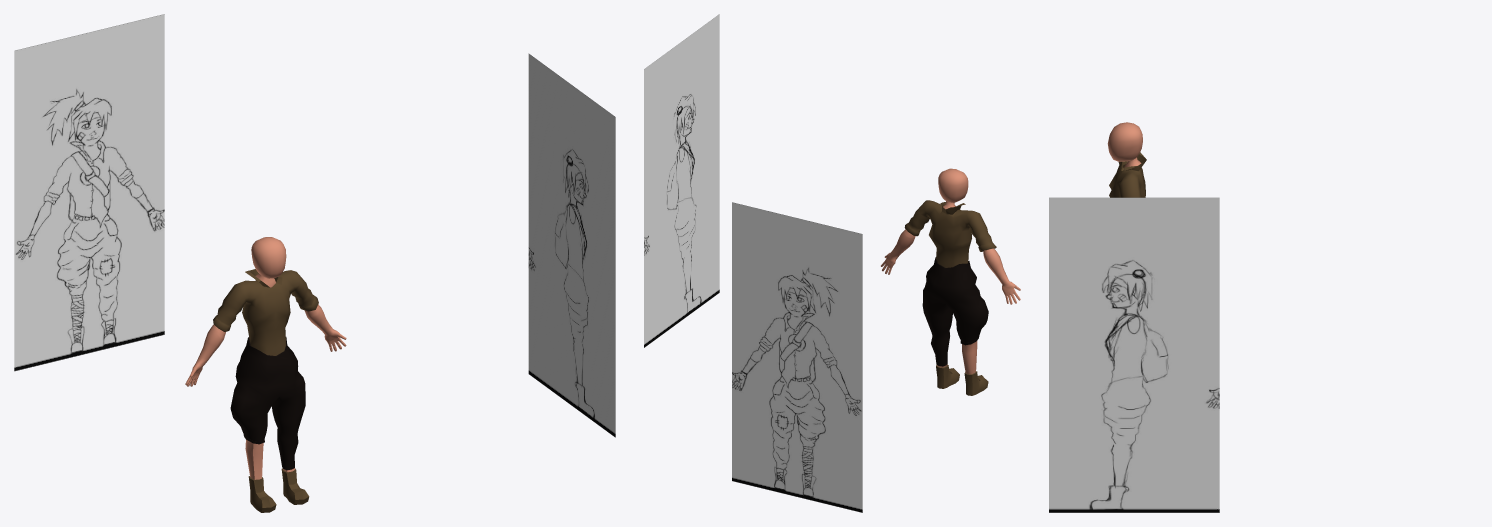
Rendered from Lucy_Placeholder.FBX.
3 views of the same model, side by side, from view 1: azimuth 30°, elevation 25°; view 2: azimuth 150°, elevation 25°; view 3: azimuth 270°, elevation 25° (orthographic). The views are drawn at different scales.
Parts seen in each view (by area): view 1: Plane001, Plane002, shirt; view 2: Plane001, Plane002, shirt; view 3: Plane002, shirt.
Boxes of the visible parts, x1,y1,x2,y2 form: Plane001: (14, 14, 164, 371); Plane002: (528, 53, 615, 437); shirt: (185, 237, 346, 512); Plane001: (732, 202, 862, 512); Plane002: (644, 14, 719, 347); shirt: (881, 168, 1020, 395); Plane002: (1049, 197, 1219, 512); shirt: (1107, 122, 1146, 197).
Size of the model in its own units: 89.72 by 73.35 by 87.35.
Materials: 4 (1 with a texture image).
